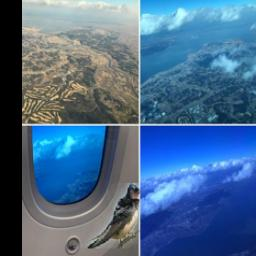Swallow: (74, 184, 141, 250)
